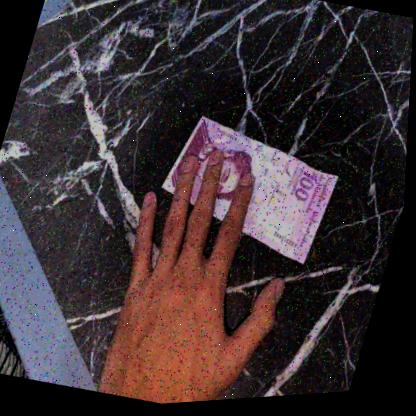one_hundred-front-vef: (147, 105, 352, 279)
